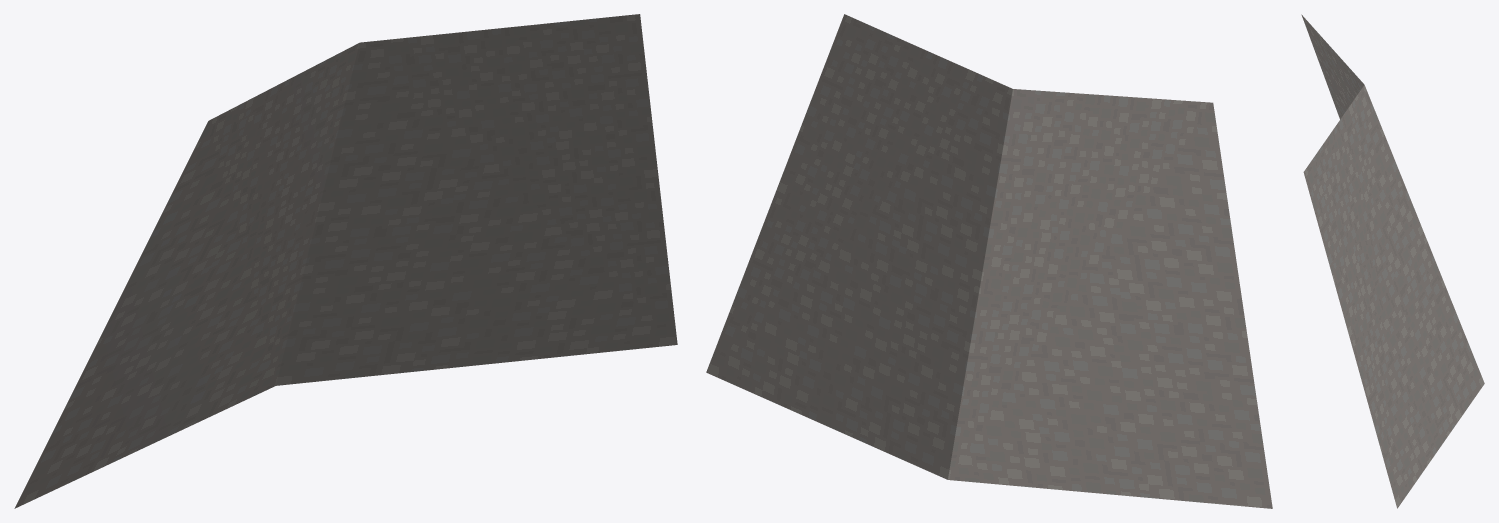
Rendered from kd_stage_135c43_4_29_bounded_piece_17.glb.
3 views of the same model, side by side, from view 1: azimuth 30°, elevation 25°; view 2: azimuth 150°, elevation 25°; view 3: azimuth 270°, elevation 25° (orthographic). The views are drawn at different scales.
Visible parts, largest first — view 1: kd_stage_135c43_4_29_bounded_piece_17; view 2: kd_stage_135c43_4_29_bounded_piece_17; view 3: kd_stage_135c43_4_29_bounded_piece_17.
Part boxes in pixels (x1=…): kd_stage_135c43_4_29_bounded_piece_17: x1=14, y1=14, x2=677, y2=508; kd_stage_135c43_4_29_bounded_piece_17: x1=706, y1=14, x2=1272, y2=508; kd_stage_135c43_4_29_bounded_piece_17: x1=1301, y1=14, x2=1484, y2=508.
Size of the model in its own units: 0.2084 by 0.12 by 0.0665.
1 material, 1 textured.
